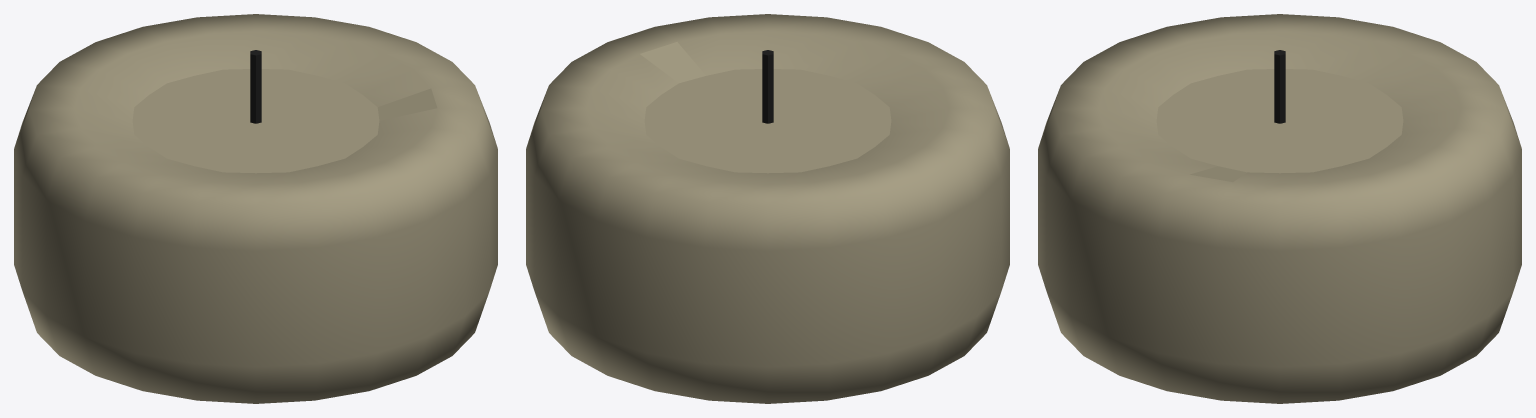
The model's file is tealight.fbx.
3 views of the same model, side by side, from view 1: azimuth 30°, elevation 25°; view 2: azimuth 150°, elevation 25°; view 3: azimuth 270°, elevation 25° (orthographic).
Visible parts, largest first — view 1: wick1; view 2: wick1; view 3: wick1.
Part boxes in pixels (bbox=[...]): wick1: bbox=[14, 14, 497, 403]; wick1: bbox=[526, 14, 1009, 403]; wick1: bbox=[1038, 14, 1521, 403].
Size of the model in its own units: 3.14 by 1.93 by 3.14.
